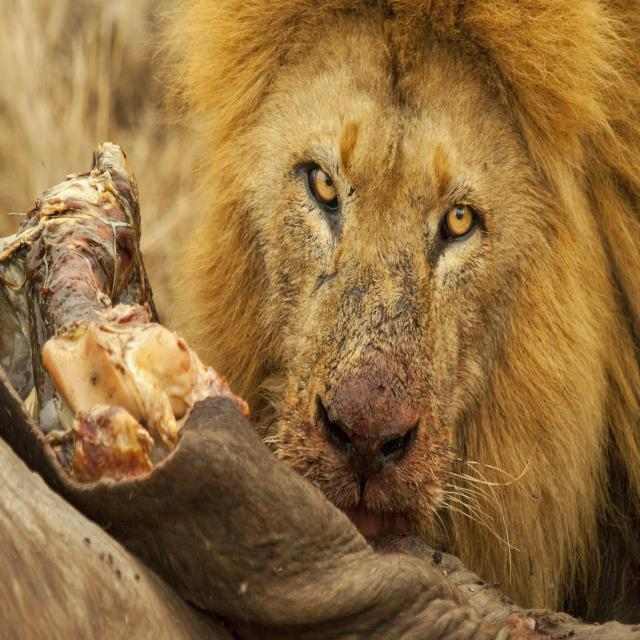Lion: (163, 1, 640, 606)
